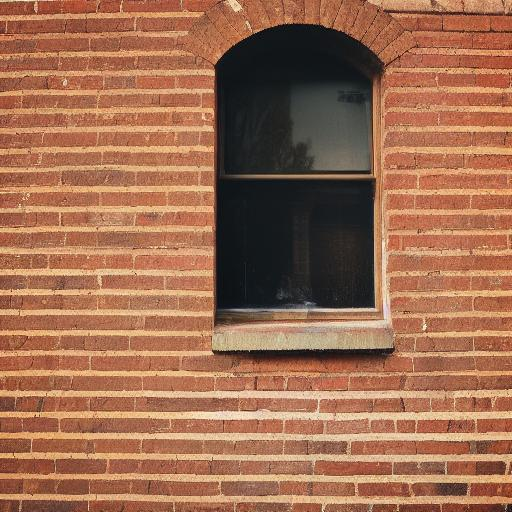Window: (181, 2, 423, 357)
